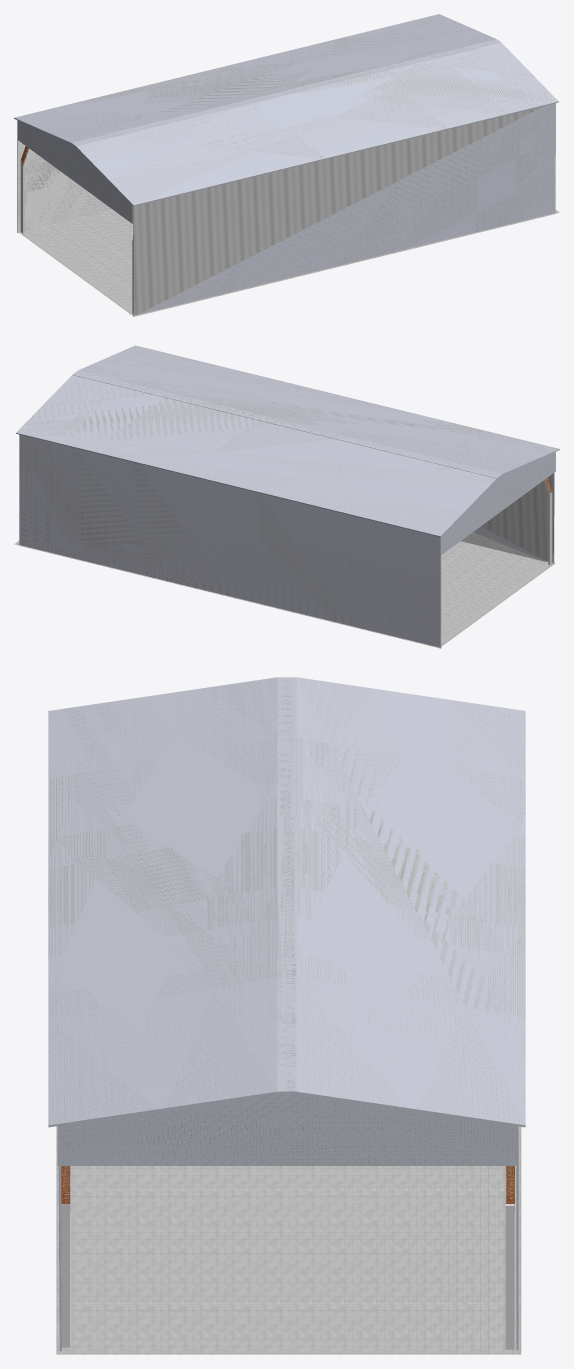
The model's file is Hangar.0.2.gltf.
3 renders of one model, top to bottom at view 1: azimuth 30°, elevation 25°; view 2: azimuth 150°, elevation 25°; view 3: azimuth 270°, elevation 25°, orthographic. The views are drawn at different scales.
Parts seen in each view (by area): view 1: instance_0.067, instance_0.014, Plane.001, instance_0.058; view 2: instance_0.067, Plane.001, instance_0.014, instance_0.058; view 3: instance_0.067, Plane.001, Cube.007, Cube.005.
Part boxes in pixels (bbox=[...]): instance_0.067: bbox=[14, 14, 558, 232]; instance_0.014: bbox=[133, 103, 555, 316]; Plane.001: bbox=[19, 209, 559, 316]; instance_0.058: bbox=[70, 38, 495, 142]; instance_0.067: bbox=[16, 345, 559, 648]; Plane.001: bbox=[14, 541, 555, 647]; instance_0.014: bbox=[461, 472, 554, 563]; instance_0.058: bbox=[73, 375, 496, 478]; instance_0.067: bbox=[48, 677, 525, 1350]; Plane.001: bbox=[56, 1126, 521, 1354]; Cube.007: bbox=[505, 1204, 514, 1349]; Cube.005: bbox=[61, 1203, 69, 1347].
Bounding box in the file's own units: 22.07 × 6.47 × 10.67.
9 materials, 5 textured.
